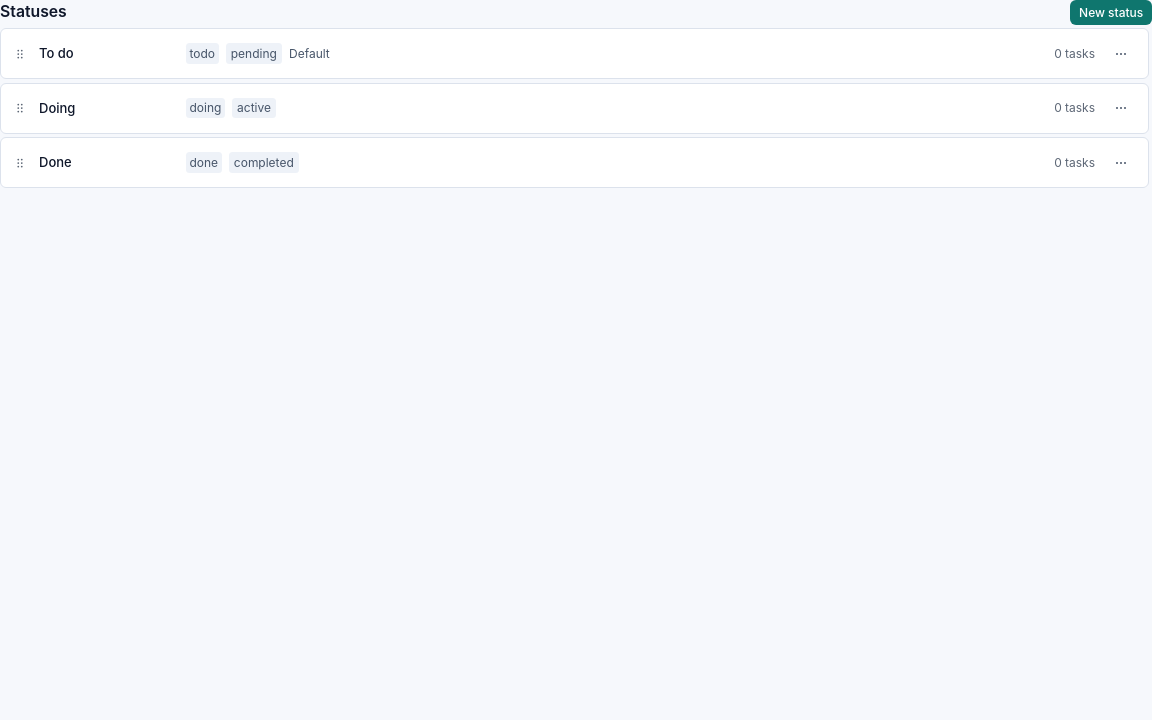
Test: EnumCollectionPanel — edit-model (SET-28, SET-51) › Cancel on a failed Edit dialog closes it, discarding the edit
Expected: the element with test id "statuses-list" is shown, top-left (0, 28), bottom-right (1151, 188)
Click the button named "Actions for status \"Doing\"" at (1121, 108), box top-left (1102, 89), bottom-right (1140, 127)
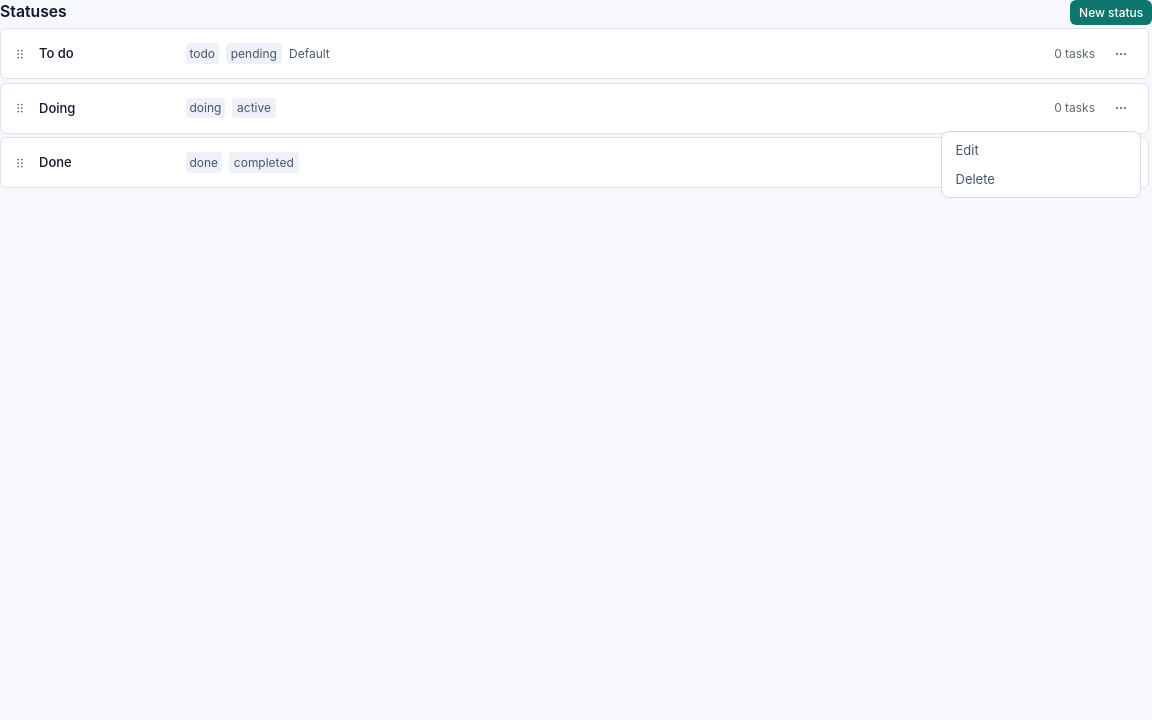
Click the menu item with test id "statuses-edit-doing" at (1040, 150), box top-left (945, 136), bottom-right (1136, 165)
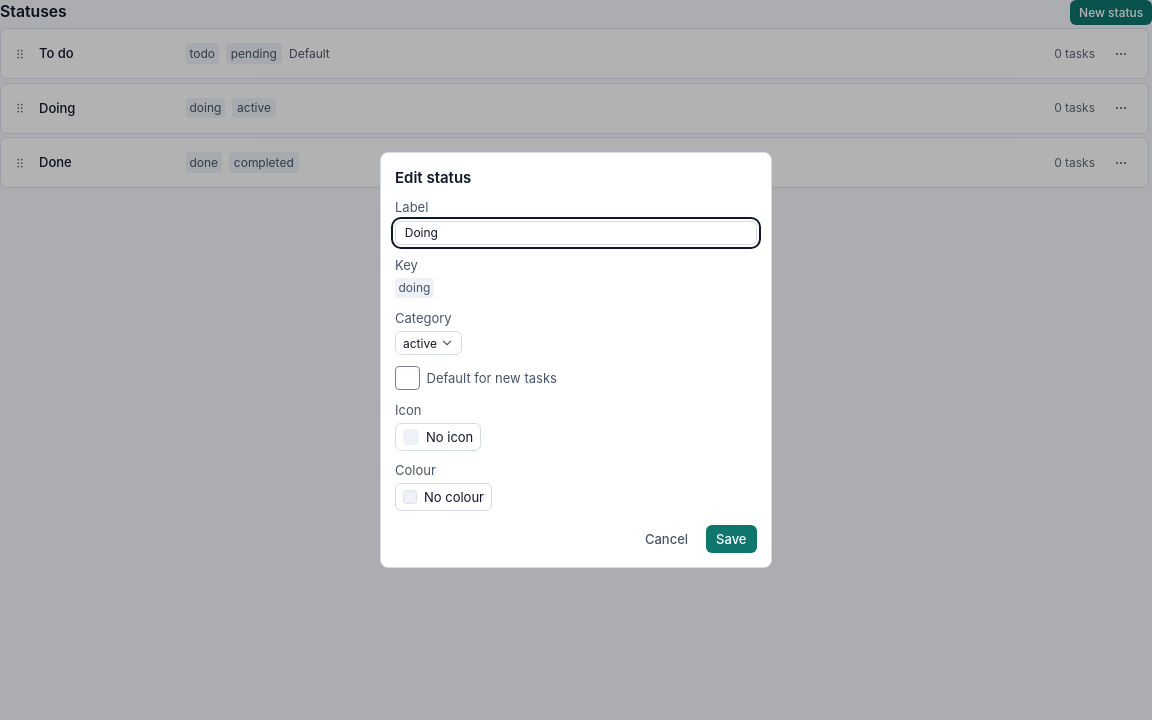
Replace the text in the field with test id "statuses-entry-label" with "In progress" at (576, 233), box top-left (395, 220), bottom-right (757, 245)
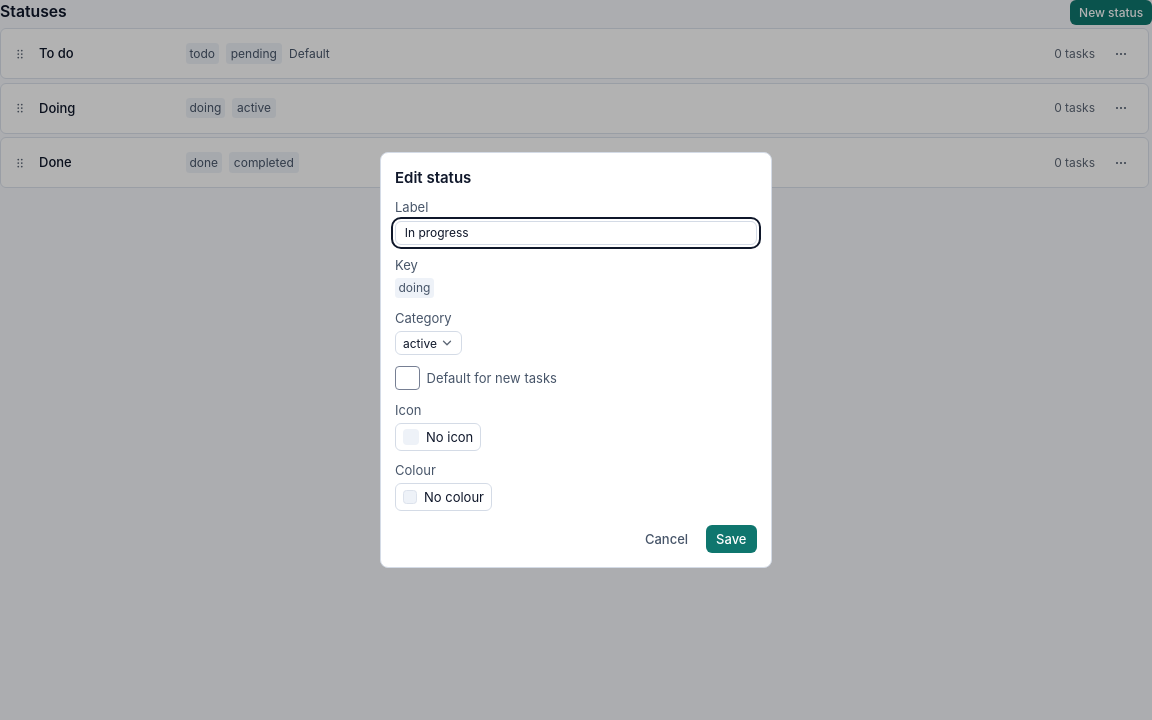
Click the button with test id "statuses-entry-save" at (731, 540), box top-left (706, 526), bottom-right (757, 554)
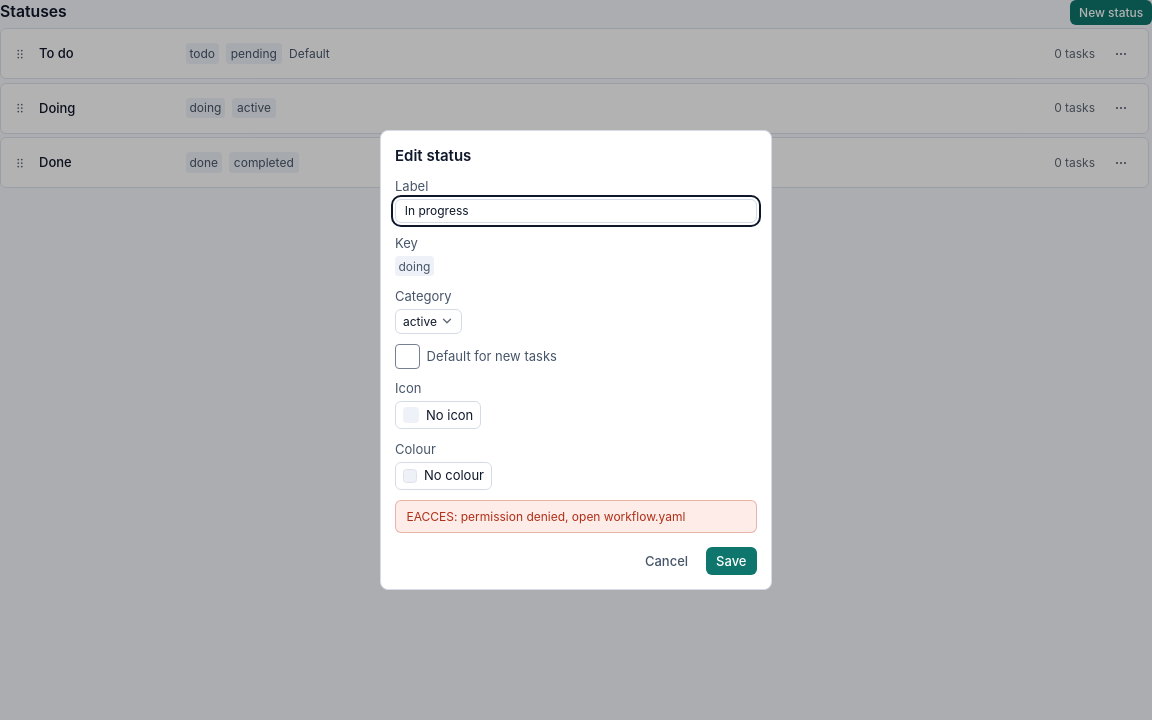
Result: the message "EACCES: permission denied, open workflow.yaml" is shown at top-left (395, 500), bottom-right (757, 533)
Click the button with test id "statuses-entry-cancel" at (666, 561), box top-left (634, 547), bottom-right (699, 575)
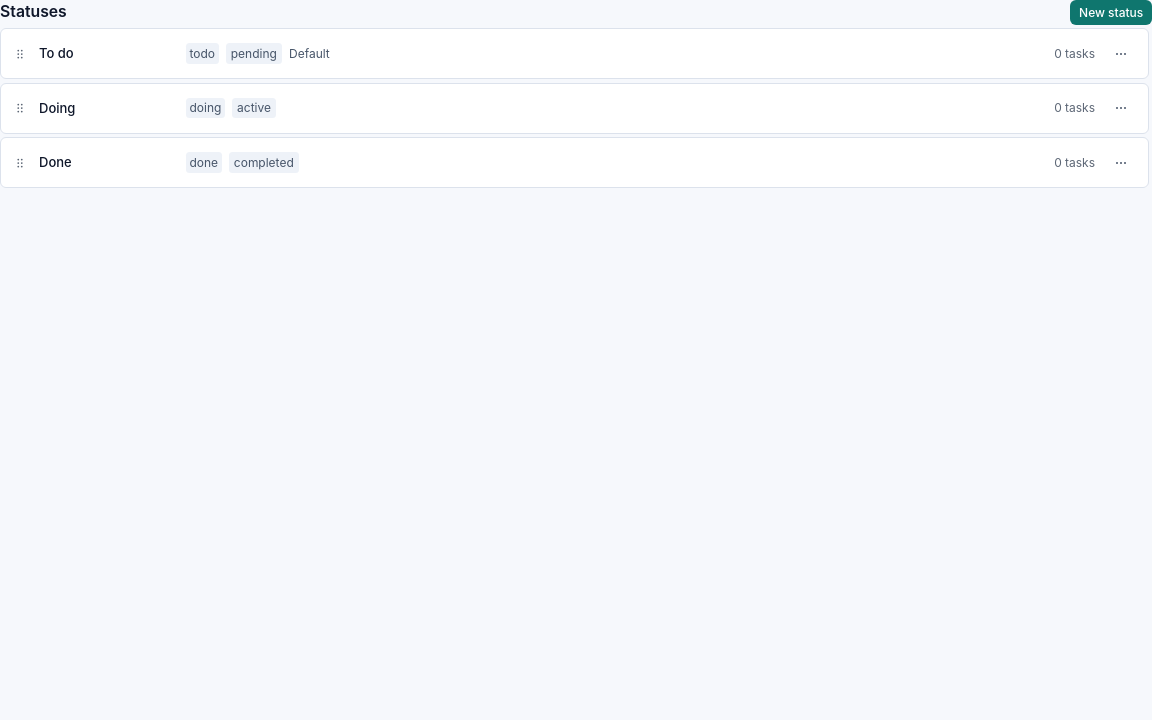
Expected: the text with test id "statuses-label-doing" reads "Doing", top-left (39, 100), bottom-right (75, 116)
Result: the element with test id "statuses-entry-dialog" is gone
